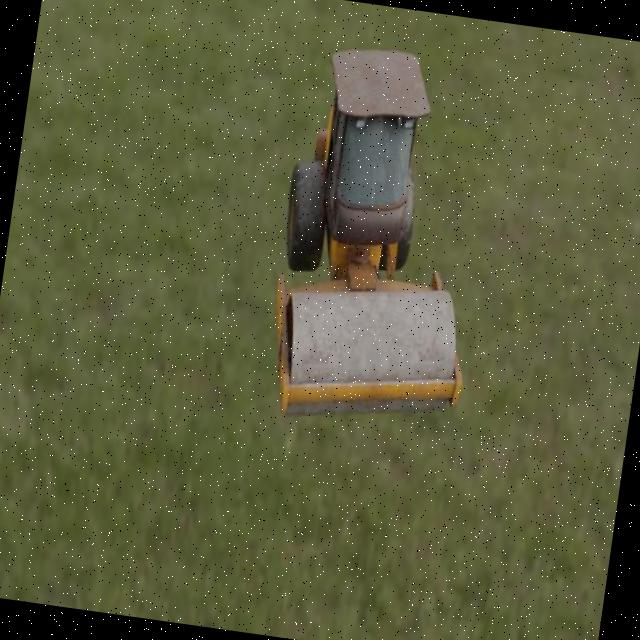Roller: (258, 38, 506, 440)
